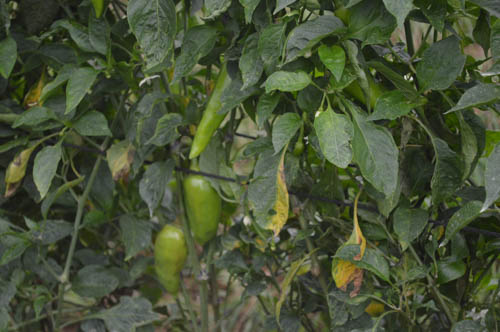ChiliPepper: (187, 57, 238, 155), (182, 176, 223, 246), (156, 226, 190, 296)
